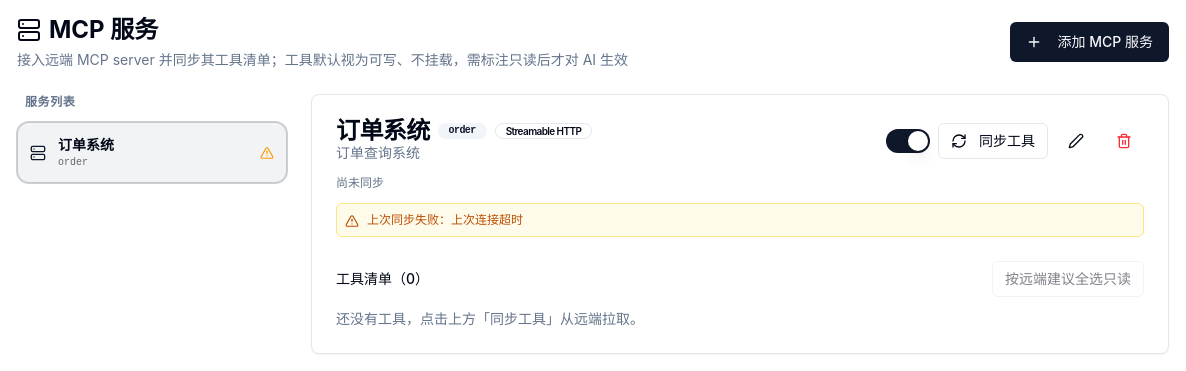
Test case: McpServerPage 同步工具 › 同步成功后刷新详情卡的 lastSyncedAt，并清除旧的失败提示
The width and height of the screenshot is (1186, 371).
Expected: the text "订单系统" is shown, [58,136,114,153]
Expected: the text "上次同步失败：上次连接超时" is shown, [367,212,523,228]
Click the button "同步工具". click: (993, 141)
box: [938,123,1048,159]
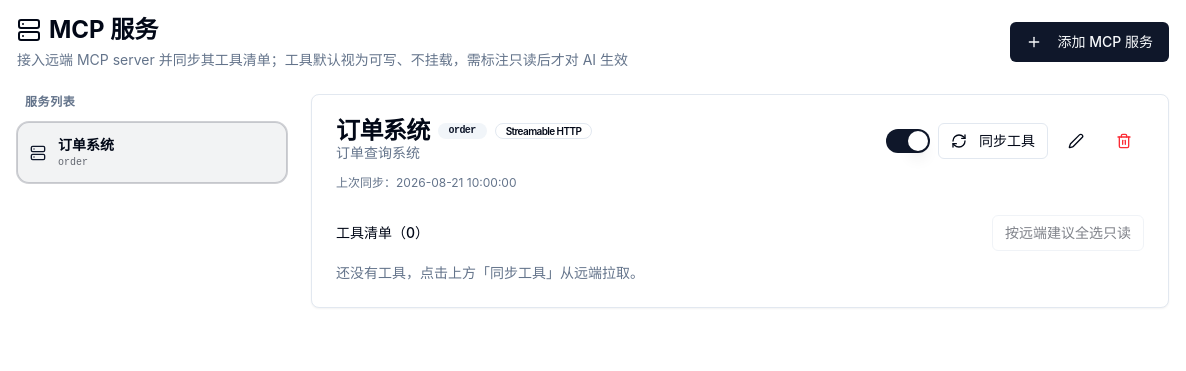
Result: the text "上次同步：2026-08-21 10:00:00" is shown at [336,175,516,190]
Result: the text "上次同步失败" is gone
